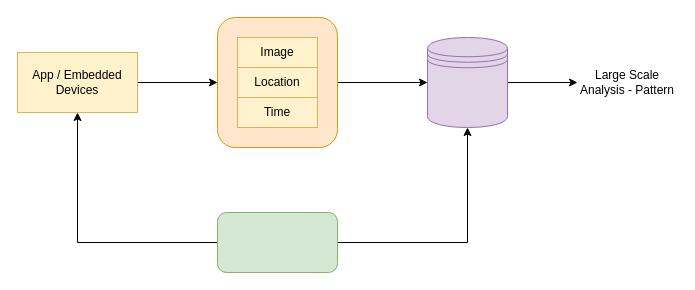
Image size: 695x290. Some labels were removed from this diagram. Here are the shapes that lost their labels. From the top down, the centre of each, then its label:
the point at 467,82: Common Database
the point at 277,242: Train / Reduce error
